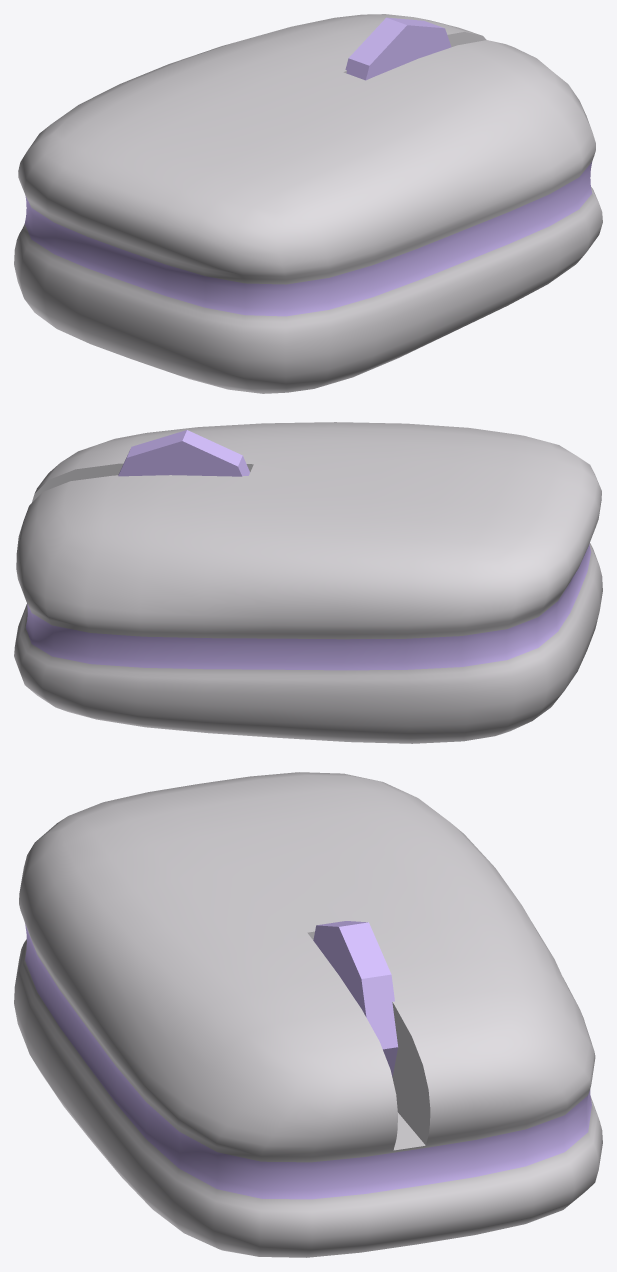
File: myszka.glb
3 views of the same model, one above another, from view 1: azimuth 30°, elevation 25°; view 2: azimuth 150°, elevation 25°; view 3: azimuth 270°, elevation 25° (orthographic). The views are drawn at different scales.
Parts seen in each view (by area): view 1: Cylinder.002; view 2: Cylinder.002; view 3: Cylinder.002.
Part boxes in pixels (x1,y1,x2,y2): Cylinder.002: (14, 14, 602, 393); Cylinder.002: (14, 422, 602, 743); Cylinder.002: (14, 772, 602, 1257).
Size of the model in its own units: 0.0108 by 0.00466 by 0.00895.
